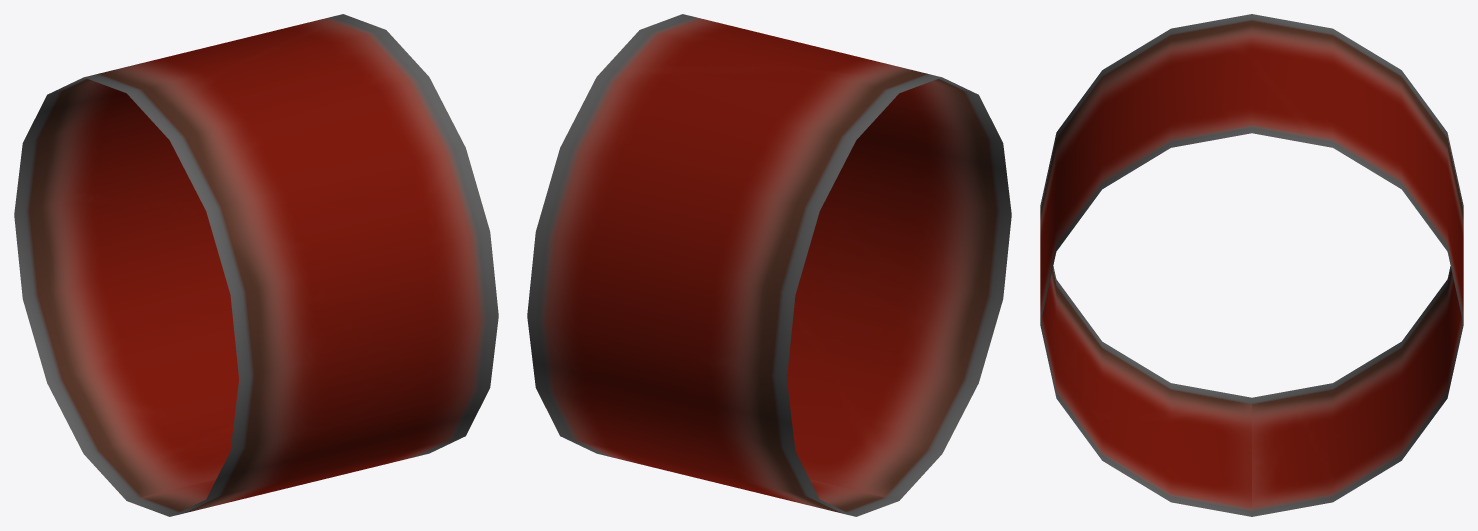
File: pipe01_str_8a.fbx
The picture shows the model from 3 angles, left to right: view 1: azimuth 30°, elevation 25°; view 2: azimuth 150°, elevation 25°; view 3: azimuth 270°, elevation 25°; orthographic projection. The views are drawn at different scales.
Parts seen in each view (by area): view 1: pipe01_str_8a; view 2: pipe01_str_8a; view 3: pipe01_str_8a.
Boxes of the visible parts, bbox=[...] form: pipe01_str_8a: bbox=[14, 14, 498, 516]; pipe01_str_8a: bbox=[527, 14, 1011, 516]; pipe01_str_8a: bbox=[1040, 14, 1463, 516].
Bounding box in the file's own units: 8 × 12 × 12.
